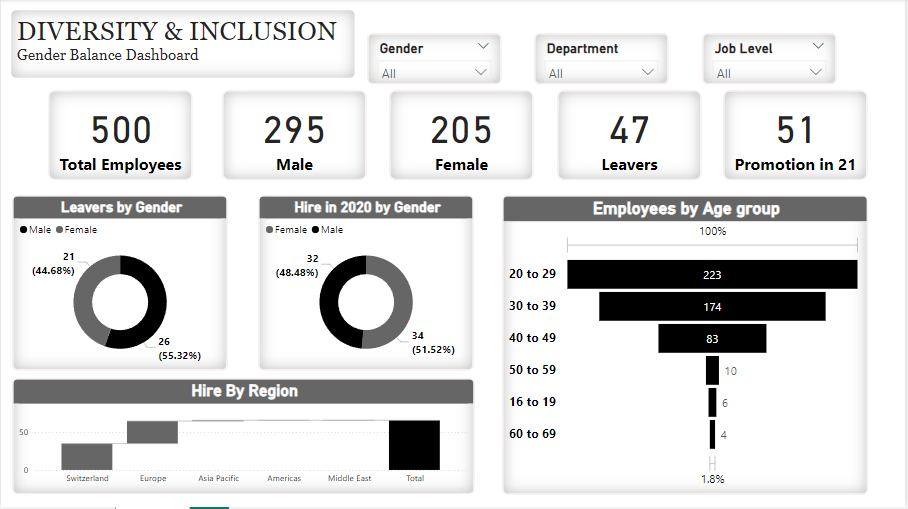

The dashboard page shown, as its layout file describes it:
{"tool":"powerbi","page":{"name":"Home","canvas":[1280,720],"ordinal":0},"visuals":[{"type":"textbox","box":[11.3,12.8,493.2,102],"z":0},{"type":"slicer","fields":{"Values":["Pharma Group AG.Gender"]},"box":[518.8,48.5,191,72.7],"z":1000},{"type":"slicer","fields":{"Values":["Pharma Group AG.Last Department in FY20"]},"box":[755.5,48.5,191,72.7],"z":2000},{"type":"slicer","fields":{"Values":["Pharma Group AG.Job Level after FY20 promotions"]},"box":[993.5,48.5,191,72.7],"z":3000},{"type":"card","fields":{"Values":["New Measures.Total Employees"]},"box":[67,128.3,205.3,128.3],"z":4000},{"type":"card","fields":{"Values":["New Measures.Male"]},"box":[313.6,128.3,205.3,128.3],"z":5000},{"type":"card","fields":{"Values":["New Measures.Female"]},"box":[550.2,128.3,205.3,128.3],"z":6000},{"type":"card","fields":{"Values":["New Measures.Leavers"]},"box":[788.2,128.3,205.3,128.3],"z":7000},{"type":"card","fields":{"Values":["New Measures.Promotion in 21"]},"box":[1023.4,128.3,205.3,128.3],"z":8000},{"type":"donutChart","fields":{"Y":["New Measures.Leavers"],"Category":["Pharma Group AG.Gender"]},"box":[15.7,278,306.5,249.4],"z":9000},{"type":"donutChart","fields":{"Category":["Pharma Group AG.Gender"],"Y":["New Measures.Hire in 2020"]},"box":[364.9,278,306.5,249.4],"z":10000},{"type":"funnel","title":"Employees by Age group","fields":{"Category":["Pharma Group AG.Age group"],"Y":["New Measures.Total Employees"]},"box":[709.8,278,518.8,424.8],"z":11000},{"type":"waterfallChart","title":"Hire By Region","fields":{"Category":["Pharma Group AG.Region group: nationality 1"],"Y":["New Measures.Hire in 2020"]},"box":[15.7,537.4,655.7,165.3],"z":12000}]}

Visuals, with their boxes in screenshot pixels (x1, y1, x2, y2), scaled from the page's 1280x720 canvas onto the 908x509 screenshot:
textbox: (left=8, top=9, right=358, bottom=81)
slicer - Pharma Group AG.Gender: (left=368, top=34, right=504, bottom=86)
slicer - Pharma Group AG.Last Department in FY20: (left=536, top=34, right=671, bottom=86)
slicer - Pharma Group AG.Job Level after FY20 promotions: (left=705, top=34, right=840, bottom=86)
card - New Measures.Total Employees: (left=48, top=91, right=193, bottom=181)
card - New Measures.Male: (left=222, top=91, right=368, bottom=181)
card - New Measures.Female: (left=390, top=91, right=536, bottom=181)
card - New Measures.Leavers: (left=559, top=91, right=705, bottom=181)
card - New Measures.Promotion in 21: (left=726, top=91, right=872, bottom=181)
donutChart - New Measures.Leavers x Pharma Group AG.Gender: (left=11, top=197, right=229, bottom=373)
donutChart - Pharma Group AG.Gender x New Measures.Hire in 2020: (left=259, top=197, right=476, bottom=373)
"Employees by Age group" funnel: (left=504, top=197, right=872, bottom=497)
"Hire By Region" waterfallChart: (left=11, top=380, right=476, bottom=497)
